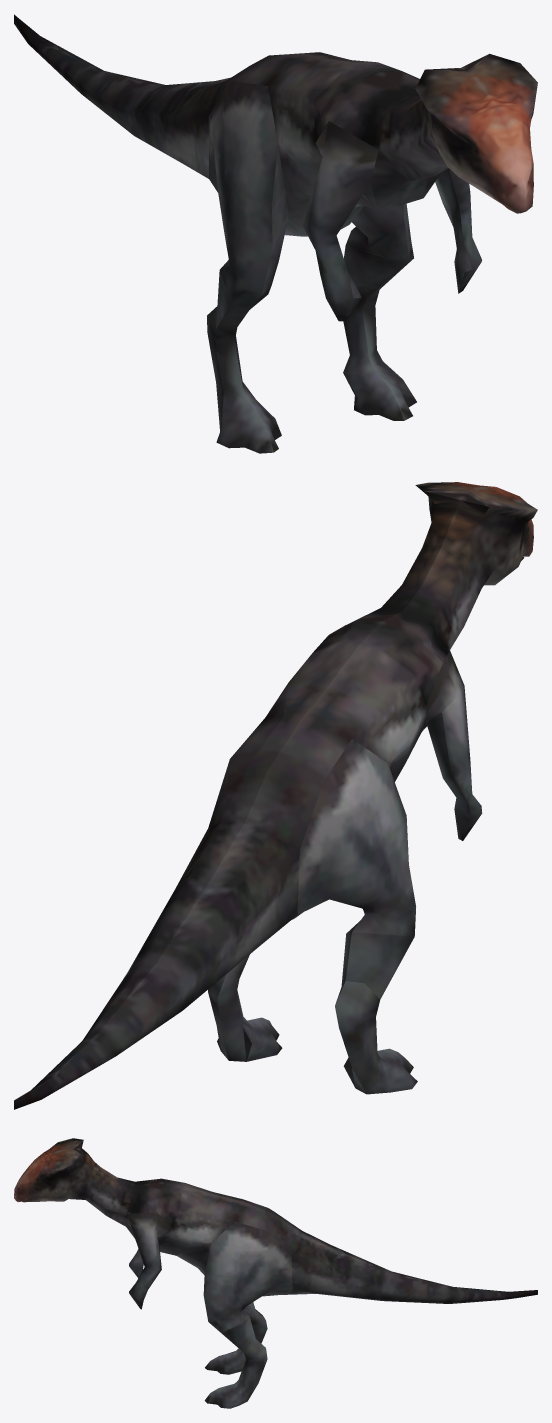
File: homo.obj
3 renders of one model, top to bottom at view 1: azimuth 30°, elevation 25°; view 2: azimuth 150°, elevation 25°; view 3: azimuth 270°, elevation 25°, orthographic. The views are drawn at different scales.
Visible parts, largest first — view 1: homo; view 2: homo; view 3: homo.
Boxes of the visible parts, bbox=[...] form: homo: bbox=[14, 14, 537, 453]; homo: bbox=[14, 482, 537, 1109]; homo: bbox=[14, 1138, 537, 1408].
Bounding box in the file's own units: 0.75 × 1.69 × 3.4.
Materials: 1 (1 with a texture image).
